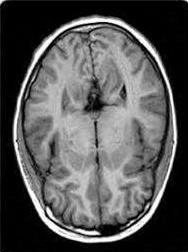Normal_Brain: (1, 1, 185, 242)
